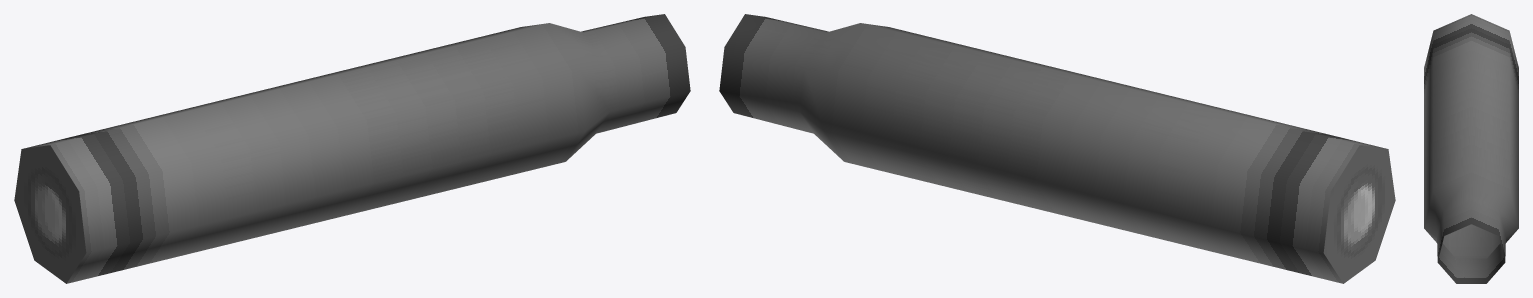
File: 762x54Round_Spent.fbx
3 views of the same model, side by side, from view 1: azimuth 30°, elevation 25°; view 2: azimuth 150°, elevation 25°; view 3: azimuth 270°, elevation 25° (orthographic). The views are drawn at different scales.
Parts seen in each view (by area): view 1: 762x54ammo; view 2: 762x54ammo; view 3: 762x54ammo.
Boxes of the visible parts, x1,y1,x2,y2 form: 762x54ammo: (14, 14, 690, 283); 762x54ammo: (719, 14, 1395, 283); 762x54ammo: (1424, 14, 1518, 283).
Bounding box in the file's own units: 0.1078 × 0.0213 × 0.0219.
